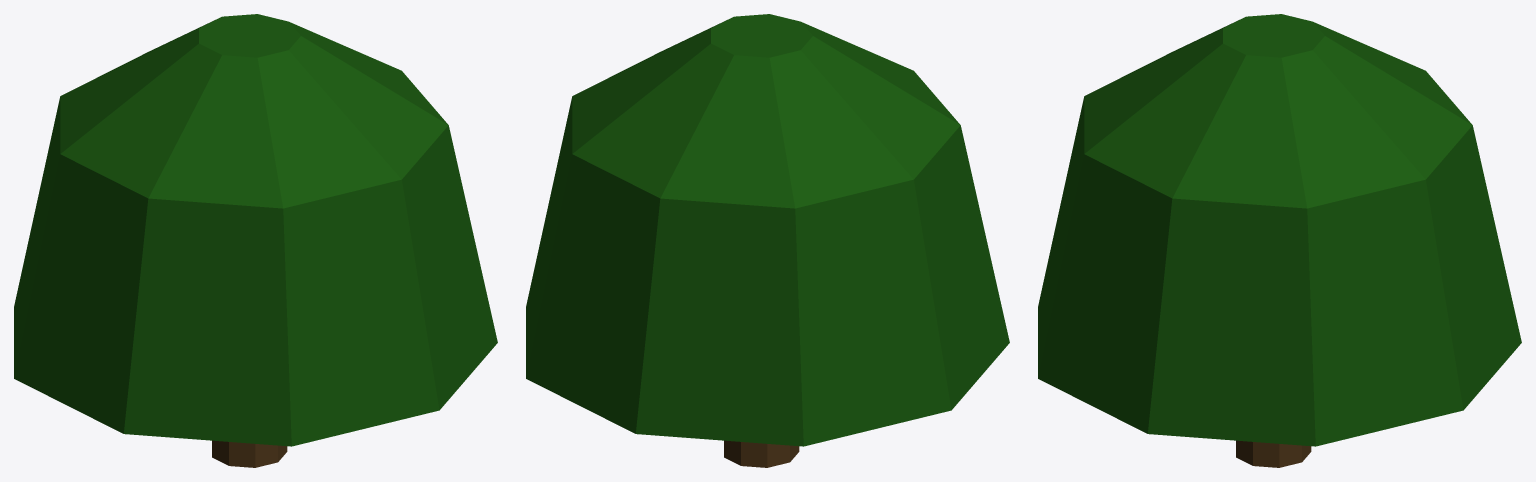
File: Bush01.fbx
3 renders of one model, left to right at view 1: azimuth 30°, elevation 25°; view 2: azimuth 150°, elevation 25°; view 3: azimuth 270°, elevation 25°, orthographic.
Visible parts, largest first — view 1: Bush01; view 2: Bush01; view 3: Bush01.
Part boxes in pixels (box(x1,y1,x2,y2)): Bush01: box(14, 14, 497, 467); Bush01: box(526, 14, 1009, 467); Bush01: box(1038, 14, 1521, 467).
Size of the model in its own units: 318 by 298 by 314.
